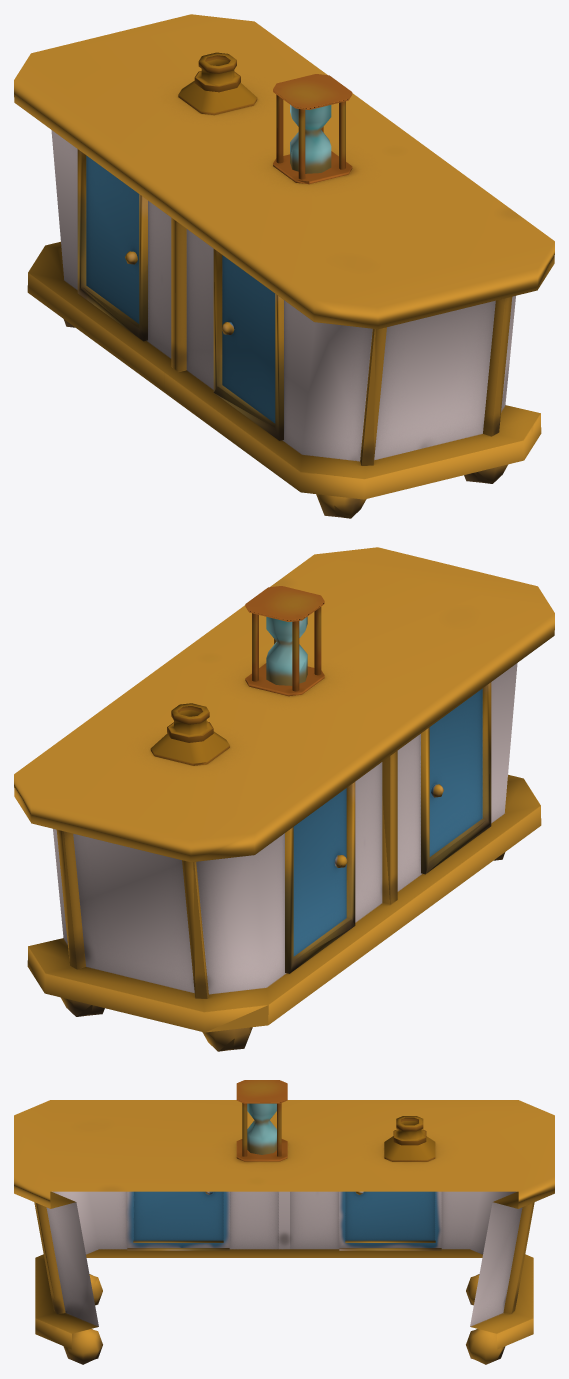
The model's file is Mesita.fbx.
3 renders of one model, top to bottom at view 1: azimuth 30°, elevation 25°; view 2: azimuth 150°, elevation 25°; view 3: azimuth 270°, elevation 25°, orthographic. The views are drawn at different scales.
Parts seen in each view (by area): view 1: OBJ_Mesita; view 2: OBJ_Mesita; view 3: OBJ_Mesita.
Boxes of the visible parts, x1,y1,x2,y2 form: OBJ_Mesita: [14, 14, 554, 518]; OBJ_Mesita: [14, 547, 554, 1051]; OBJ_Mesita: [14, 1080, 554, 1364].
Bounding box in the file's own units: 34.39 × 43.96 × 85.86.
